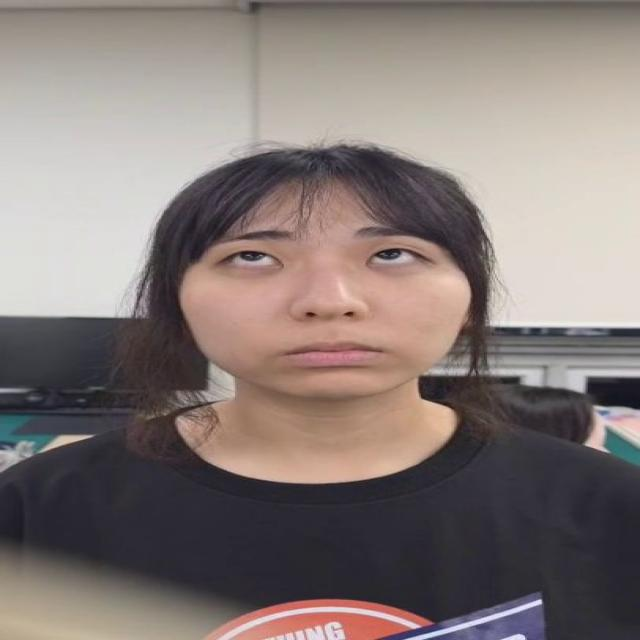eyes: (210, 245, 440, 278)
face: (178, 145, 476, 397)
iris_up: (370, 248, 400, 260), (240, 247, 258, 259)
